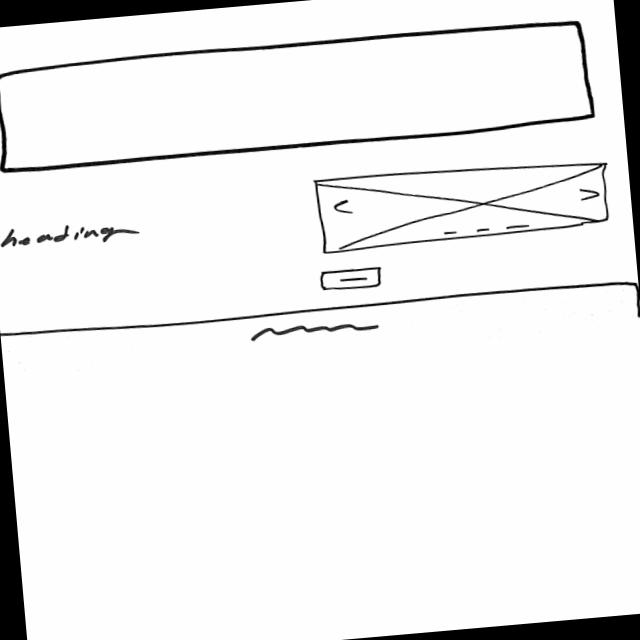container: (0, 17, 595, 174)
icon-button: (318, 265, 382, 292)
image: (312, 152, 612, 254)
label: (0, 216, 142, 251)
text: (246, 316, 382, 343)
